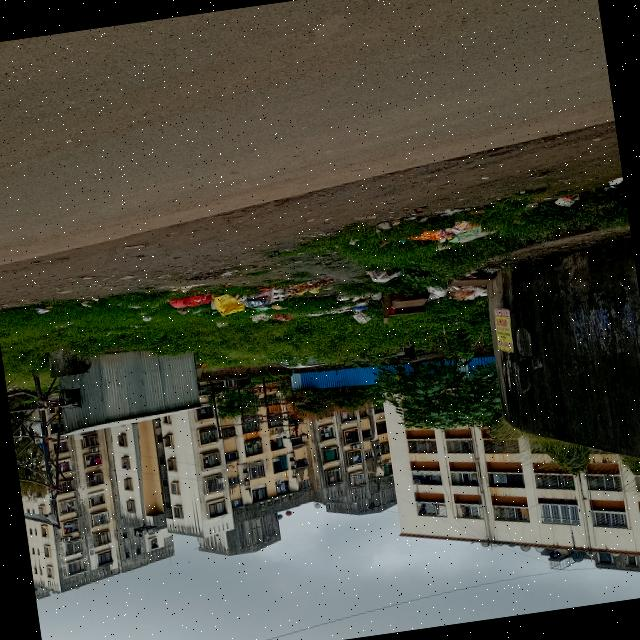garbage: (177, 250, 498, 348), (410, 210, 500, 260)
